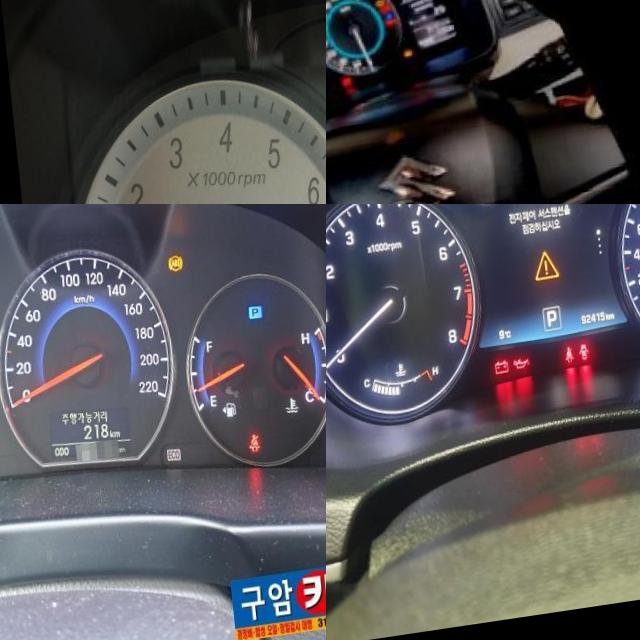Central Warning lamp: (524, 257, 553, 292)
Doors: (569, 353, 580, 371)
High Engine Coolant Temperature: (375, 19, 385, 28)
